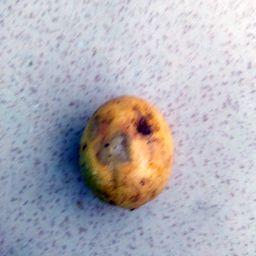lemon: (75, 93, 176, 214)
